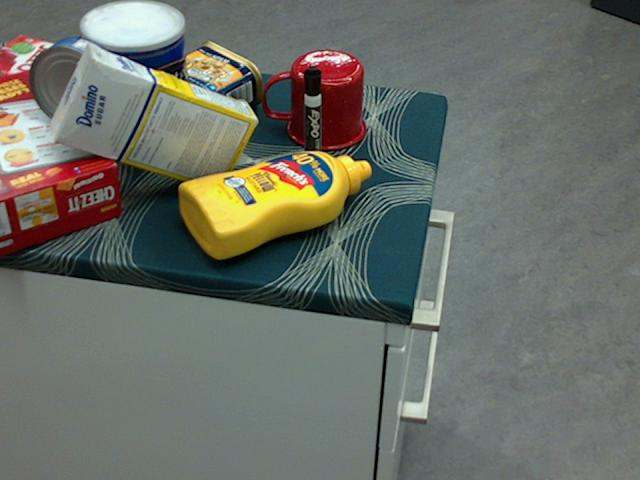cracker_box: (0, 71, 122, 253)
gelatin_box: (0, 36, 75, 99)
large_marker: (301, 65, 322, 172)
master_chef_can: (82, 1, 189, 164)
mug: (261, 50, 364, 150)
mustard_bottle: (178, 150, 371, 259)
potted_meat_can: (151, 40, 262, 129)
sugar_box: (51, 46, 258, 190)
tomato_soup_can: (59, 22, 137, 117)
tuna_fish_can: (29, 37, 123, 129)
